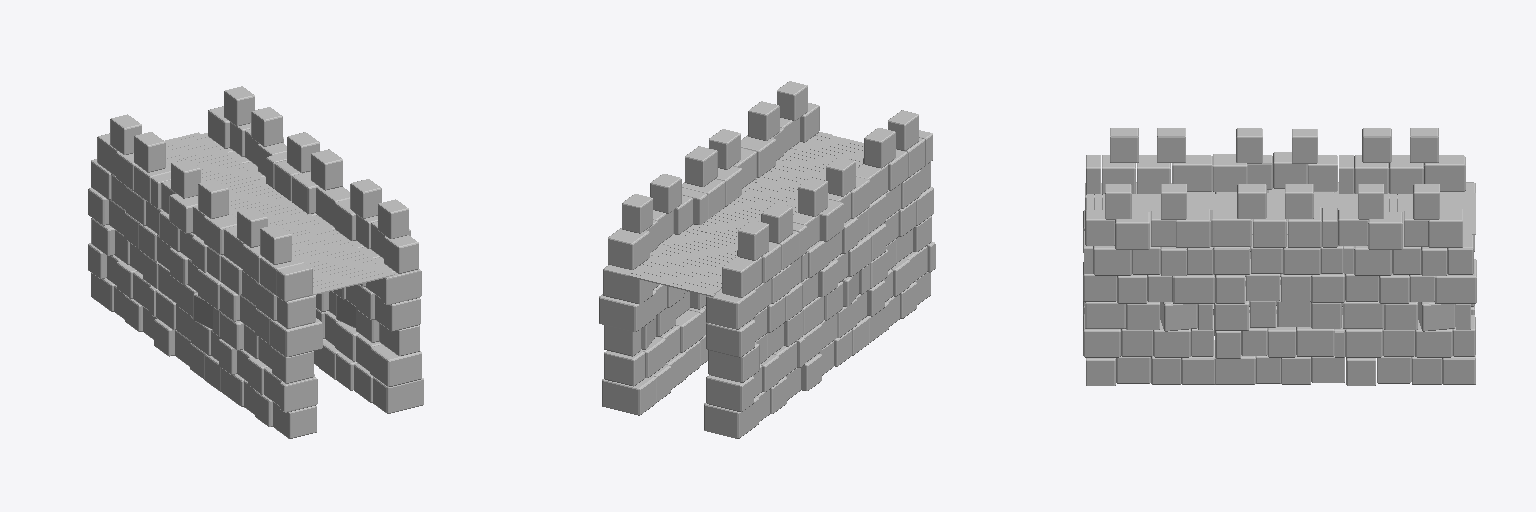
File: Wall Game-Ready Piece.obj
3 views of the same model, side by side, from view 1: azimuth 30°, elevation 25°; view 2: azimuth 150°, elevation 25°; view 3: azimuth 270°, elevation 25° (orthographic).
Parts seen in each view (by area): view 1: wall; view 2: wall; view 3: wall.
Part boxes in pixels (x1,y1,x2,y2): wall: (88,86,423,438); wall: (599,81,935,438); wall: (1083,128,1476,385).
Bounding box in the file's own units: 0.8786 × 1.1 × 2.05.